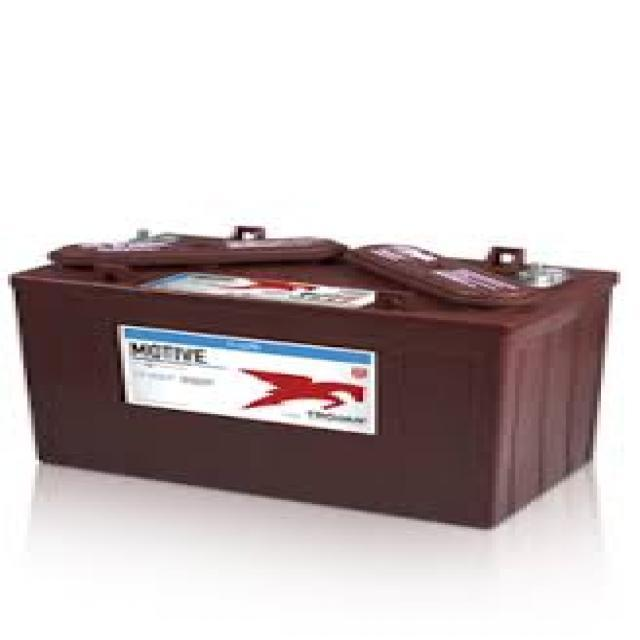battery: (14, 224, 636, 528)
